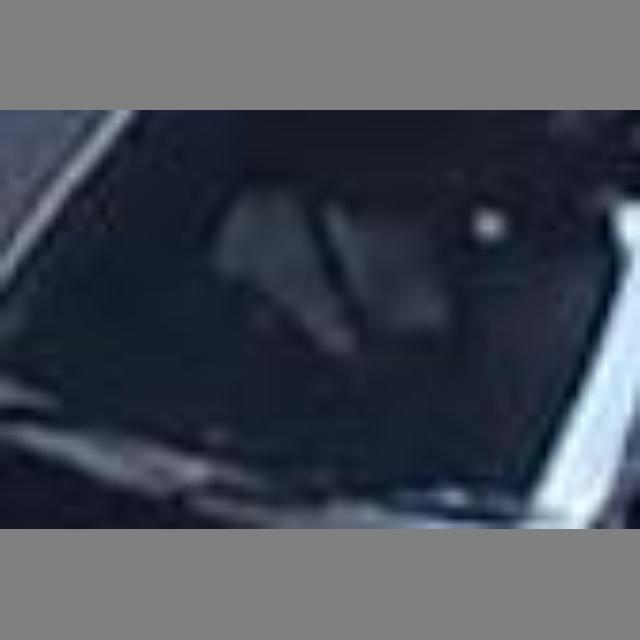pakai: (206, 186, 442, 400)
